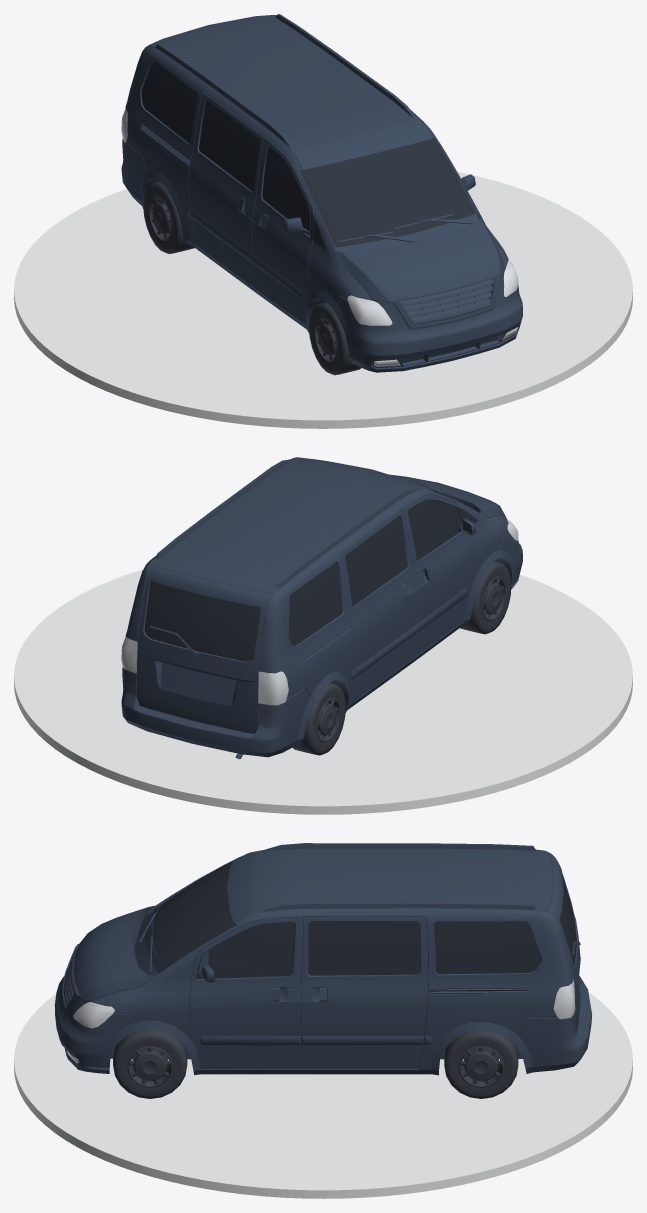
The model's file is van.glb.
The picture shows the model from 3 angles, top to bottom: view 1: azimuth 30°, elevation 25°; view 2: azimuth 150°, elevation 25°; view 3: azimuth 270°, elevation 25°; orthographic projection.
Visible parts, largest first — view 1: turntable, minivan body_Body_0, minivan body_Glass_0, Wheel_D002_Wheel_0, Wheel_D003_Wheel_0, minivan body_Optics_0; view 2: turntable, minivan body_Body_0, minivan body_Glass_0, Wheel_D003_Wheel_0, Wheel_D002_Wheel_0, minivan body_Optics_0; view 3: minivan body_Body_0, turntable, minivan body_Glass_0, Wheel_D_Wheel_0, Wheel_D001_Wheel_0, minivan body_Optics_0.
Boxes of the visible parts, x1,y1,x2,y2 form: turntable: [14, 172, 632, 428]; minivan body_Body_0: [121, 14, 522, 372]; minivan body_Glass_0: [141, 61, 475, 250]; Wheel_D002_Wheel_0: [308, 302, 360, 375]; Wheel_D003_Wheel_0: [143, 181, 194, 253]; minivan body_Optics_0: [121, 108, 518, 366]; turntable: [14, 569, 632, 814]; minivan body_Body_0: [121, 457, 522, 759]; minivan body_Glass_0: [144, 482, 478, 661]; Wheel_D003_Wheel_0: [292, 683, 345, 755]; Wheel_D002_Wheel_0: [460, 561, 511, 634]; minivan body_Optics_0: [121, 518, 518, 705]; minivan body_Body_0: [54, 843, 592, 1075]; turntable: [14, 992, 632, 1198]; minivan body_Glass_0: [144, 861, 576, 978]; Wheel_D_Wheel_0: [113, 1028, 187, 1098]; Wheel_D001_Wheel_0: [444, 1030, 518, 1098]; minivan body_Optics_0: [67, 979, 575, 1062].
Bounding box in the file's own units: 5.31 × 1.84 × 5.31.
